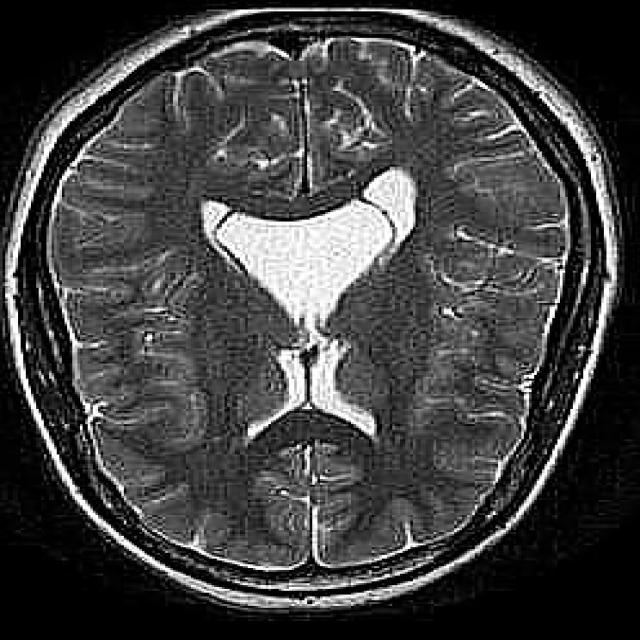Tumor-Cell: (210, 72, 399, 192)
